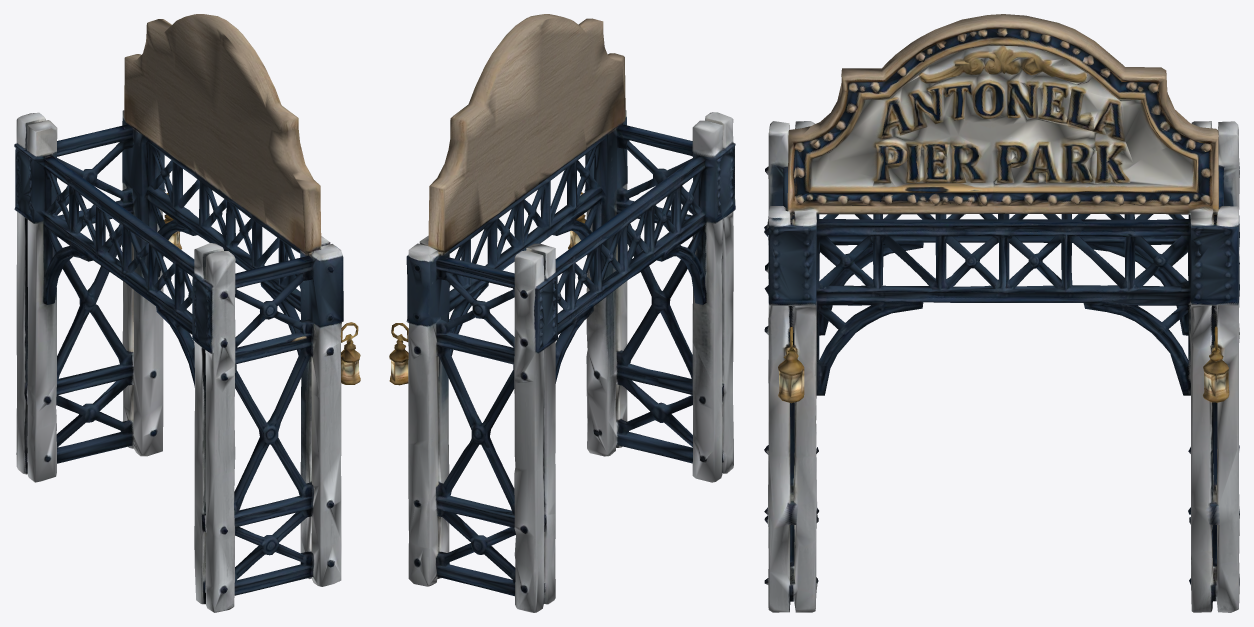
The model's file is pier_entrance_arch.glb.
The picture shows the model from 3 angles, left to right: view 1: azimuth 30°, elevation 25°; view 2: azimuth 150°, elevation 25°; view 3: azimuth 270°, elevation 25°; orthographic projection. The views are drawn at different scales.
Visible parts, largest first — view 1: tripo_node_baeaf654-cc7d-40a3-8fba-d5cde1083b80; view 2: tripo_node_baeaf654-cc7d-40a3-8fba-d5cde1083b80; view 3: tripo_node_baeaf654-cc7d-40a3-8fba-d5cde1083b80.
Boxes of the visible parts, x1,y1,x2,y2 form: tripo_node_baeaf654-cc7d-40a3-8fba-d5cde1083b80: (14, 14, 360, 612); tripo_node_baeaf654-cc7d-40a3-8fba-d5cde1083b80: (389, 14, 735, 612); tripo_node_baeaf654-cc7d-40a3-8fba-d5cde1083b80: (764, 14, 1239, 612).
Size of the model in its own units: 0.3366 by 0.9999 by 0.7385.
Materials: 1 (1 with a texture image).
